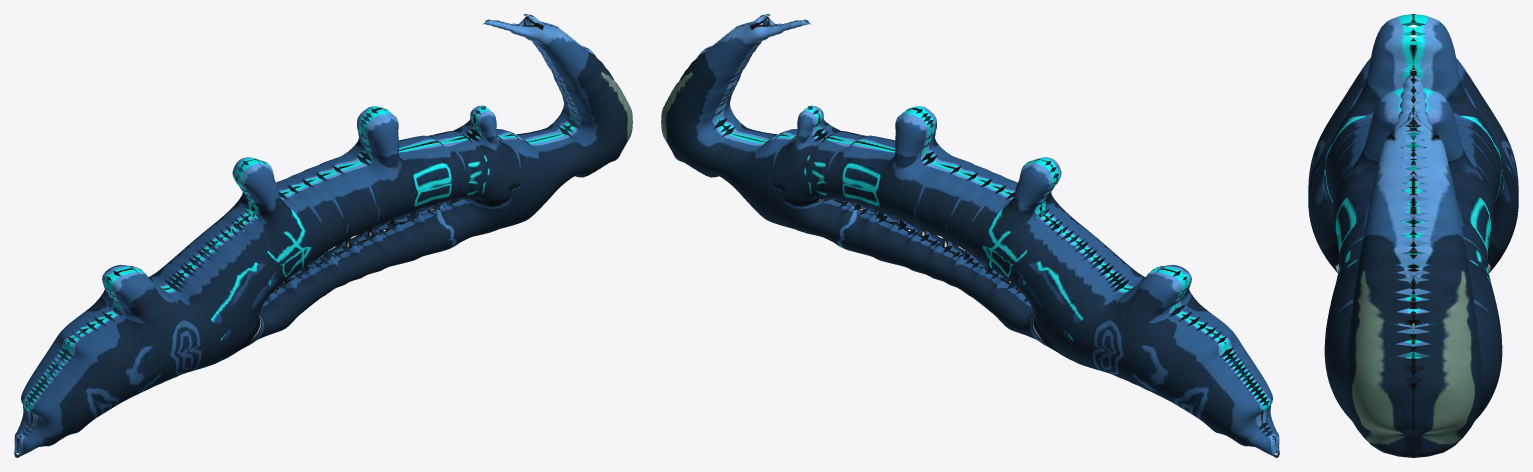
Rendered from curved_hull_rail.glb.
3 views of the same model, side by side, from view 1: azimuth 30°, elevation 25°; view 2: azimuth 150°, elevation 25°; view 3: azimuth 270°, elevation 25° (orthographic). The views are drawn at different scales.
Visible parts, largest first — view 1: curved_hull_rail; view 2: curved_hull_rail; view 3: curved_hull_rail.
Boxes of the visible parts, <box> form: curved_hull_rail: <box>14,14,632,457</box>; curved_hull_rail: <box>661,14,1279,457</box>; curved_hull_rail: <box>1308,14,1518,457</box>.
Bounding box in the file's own units: 0.9888 × 0.4987 × 0.1723.
Materials: 1 (1 with a texture image).
